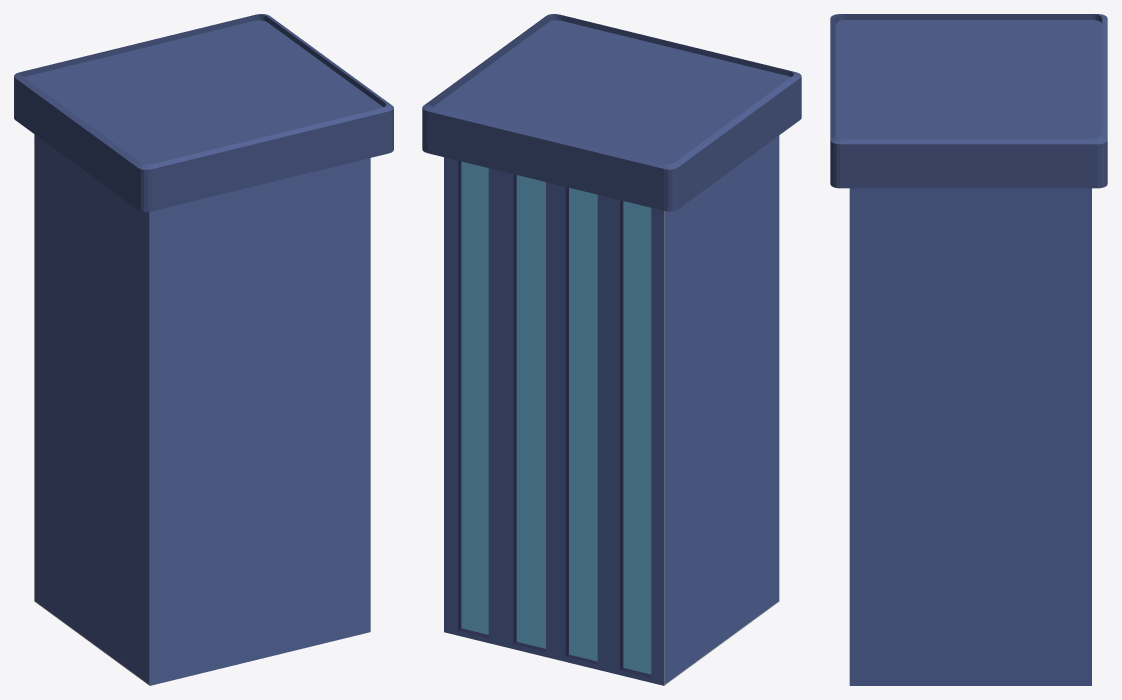
The model's file is Building1fbx.fbx.
The picture shows the model from 3 angles, left to right: view 1: azimuth 30°, elevation 25°; view 2: azimuth 150°, elevation 25°; view 3: azimuth 270°, elevation 25°; orthographic projection. The views are drawn at different scales.
Parts seen in each view (by area): view 1: Box, Cube.001, Cube.002, Cube; view 2: Windows, Cube.001, Cube.002, Box, WindowsShadows, Cube; view 3: Box, Cube.002.
Boxes of the visible parts, x1,y1,x2,y2 form: Box: [149, 158, 370, 685]; Cube.001: [34, 134, 149, 684]; Cube.002: [14, 14, 393, 211]; Cube: [34, 134, 149, 685]; Windows: [461, 161, 651, 674]; Cube.001: [664, 136, 778, 684]; Cube.002: [422, 14, 801, 211]; Box: [444, 157, 664, 685]; WindowsShadows: [458, 161, 651, 677]; Cube: [664, 135, 779, 685]; Box: [849, 188, 1091, 685]; Cube.002: [830, 14, 1107, 188].
Size of the model in its own units: 1594 by 3156 by 1435.
